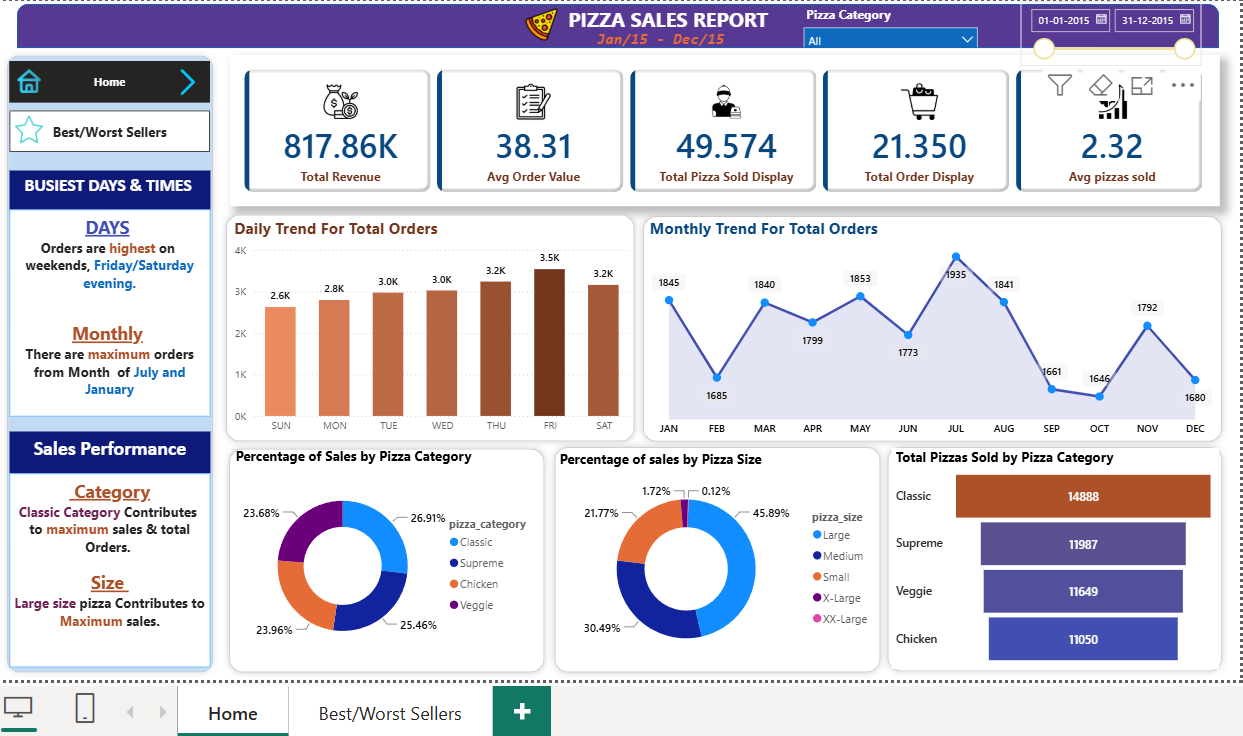

What the dashboard file says about the page in this screenshot:
{"tool":"powerbi","page":{"name":"Home","canvas":[1500,820],"ordinal":0},"visuals":[{"type":"shape","box":[1.8,58,264.5,760.8],"z":0},{"type":"cardVisual","fields":{"Data":["pizza_sales.Total Revenue","pizza_sales.Avg Order Value","pizza_sales.Total Pizza Sold Display","pizza_sales.Total Order Display","pizza_sales.Avg pizzas sold"]},"box":[279,65.2,1195.6,183],"z":1000},{"type":"shape","box":[21.7,3.3,1451.7,53.3],"z":2000},{"type":"textbox","box":[688.3,28.3,221.7,33.3],"z":3000},{"type":"textbox","box":[12.7,204.7,242.7,48.9],"z":4000},{"type":"image","box":[616.7,8.3,78.3,38.3],"z":5000},{"type":"shape","box":[266.3,250,509,289.8],"z":6000},{"type":"columnChart","title":"Daily Trend For Total Orders","fields":{"Category":["pizza_sales.Order Day"],"Y":["pizza_sales.Total order"]},"box":[279,260.9,489.1,269.9],"z":7000},{"type":"shape","box":[770,251.7,715,288.3],"z":8000},{"type":"areaChart","title":"Monthly Trend For Total Orders ","fields":{"Category":["pizza_sales.Order Month"],"Y":["pizza_sales.Total order"]},"box":[781.7,261.7,691.7,273.3],"z":9000},{"type":"shape","box":[269.9,532.6,396.7,286.2],"z":10000},{"type":"shape","box":[1065,531.7,420,286.7],"z":11000},{"type":"shape","box":[663,530.8,409.4,288],"z":12000},{"type":"donutChart","title":"Percentage of Sales by Pizza Category","fields":{"Category":["pizza_sales.pizza_category"],"Y":["pizza_sales.Total Revenue"]},"box":[280.8,538,376.8,266.3],"z":13000},{"type":"donutChart","title":"Percentage of sales by Pizza Size ","fields":{"Category":["pizza_sales.pizza_size"],"Y":["pizza_sales.Total Revenue"]},"box":[672.1,541.6,394.9,266.3],"z":14000},{"type":"funnel","title":"Total Pizzas Sold by Pizza Category","fields":{"Category":["pizza_sales.pizza_category"],"Y":["pizza_sales.Total pizzas sold"]},"box":[1078.3,540,395,266.7],"z":15000},{"type":"textbox","box":[643.3,0,330,43.3],"z":16000},{"type":"textbox","box":[12.7,251.8,242.7,250],"z":17000},{"type":"textbox","box":[12.7,519.9,242.7,50.7],"z":18000},{"type":"textbox","box":[12.7,570.6,242.7,233.7],"z":19000},{"type":"slicer","fields":{"Values":["pizza_sales.pizza_category"]},"box":[962,0,230,56],"z":20000},{"type":"slicer","fields":{"Values":["pizza_sales.order_date"]},"box":[1233.7,0,219.2,77.9],"z":21000},{"type":"pageNavigator","box":[12.7,72.5,242.7,50.7],"z":21001},{"type":"pageNavigator","box":[12.7,132.2,242.7,50.7],"z":21002},{"type":"image","box":[5.4,77.9,61.6,38],"z":21003},{"type":"image","box":[201.1,74.3,54.3,47.1],"z":21004},{"type":"image","box":[0,137.7,72.5,34.4],"z":21005}]}

Visuals, with their boxes on the page's 1500x820 design canvas (x1, y1, x2, y2). These are canvas units, not pixel positions in the 1243x736 screenshot, which may show the page scaled, cropped or inside an application window:
shape: region(2, 58, 266, 819)
cardVisual - pizza_sales.Total Revenue x pizza_sales.Avg Order Value: region(279, 65, 1475, 248)
shape: region(22, 3, 1473, 57)
textbox: region(688, 28, 910, 62)
textbox: region(13, 205, 255, 254)
image: region(617, 8, 695, 47)
shape: region(266, 250, 775, 540)
"Daily Trend For Total Orders" columnChart: region(279, 261, 768, 531)
shape: region(770, 252, 1485, 540)
"Monthly Trend For Total Orders " areaChart: region(782, 262, 1473, 535)
shape: region(270, 533, 667, 819)
shape: region(1065, 532, 1485, 818)
shape: region(663, 531, 1072, 819)
"Percentage of Sales by Pizza Category" donutChart: region(281, 538, 658, 804)
"Percentage of sales by Pizza Size " donutChart: region(672, 542, 1067, 808)
"Total Pizzas Sold by Pizza Category" funnel: region(1078, 540, 1473, 807)
textbox: region(643, 0, 973, 43)
textbox: region(13, 252, 255, 502)
textbox: region(13, 520, 255, 571)
textbox: region(13, 571, 255, 804)
slicer - pizza_sales.pizza_category: region(962, 0, 1192, 56)
slicer - pizza_sales.order_date: region(1234, 0, 1453, 78)
pageNavigator: region(13, 72, 255, 123)
pageNavigator: region(13, 132, 255, 183)
image: region(5, 78, 67, 116)
image: region(201, 74, 255, 121)
image: region(0, 138, 72, 172)
